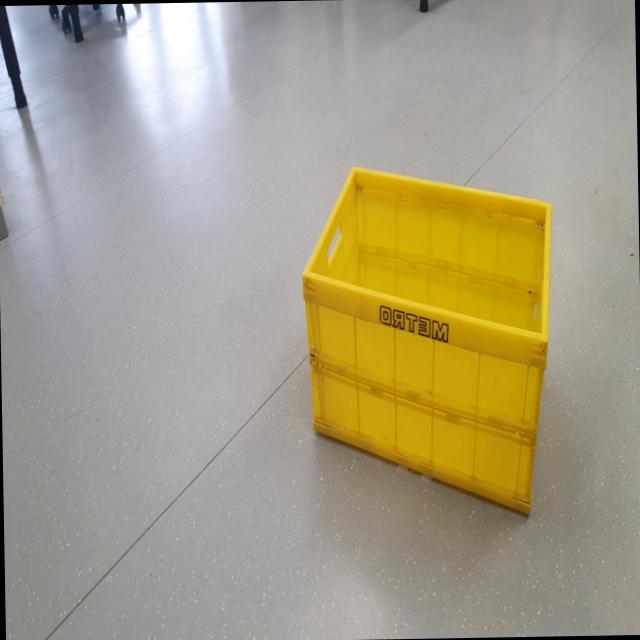box: (295, 130, 560, 526)
